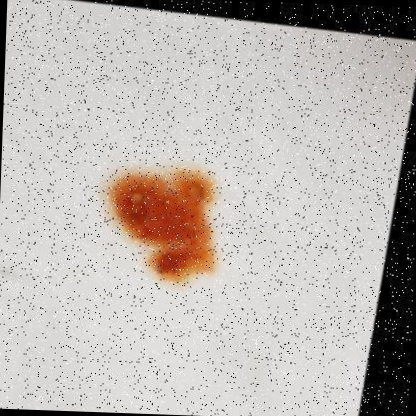kimchi: (103, 164, 221, 292)
